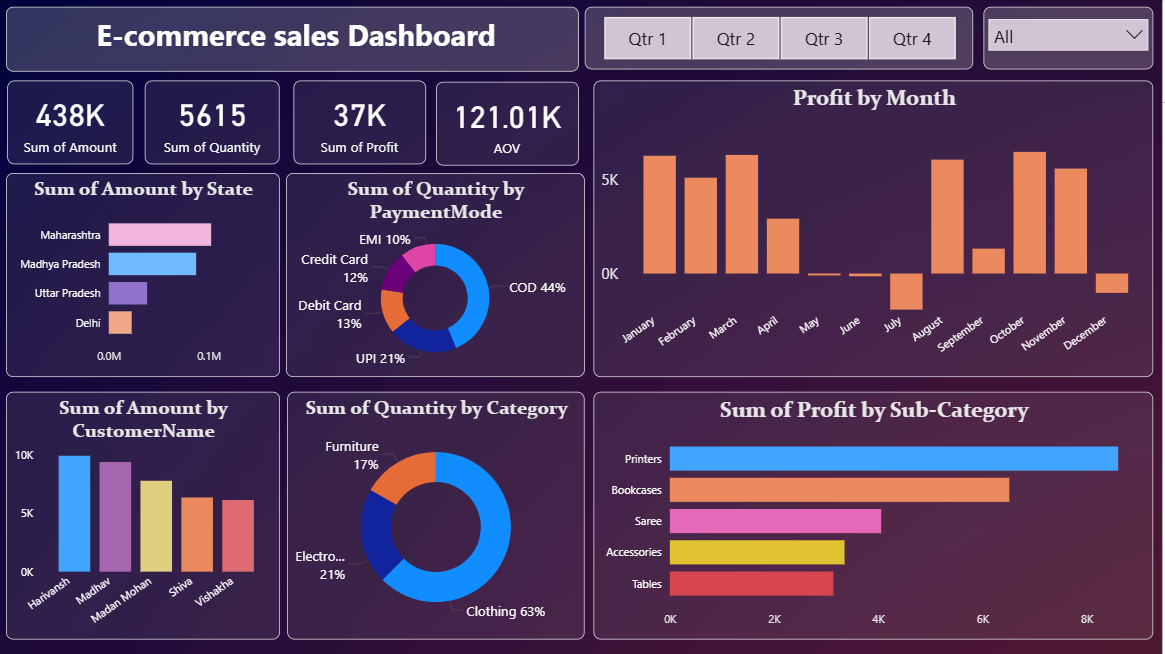

The page's visual inventory and layout, read from the dashboard file:
{"tool":"powerbi","page":{"name":"Page 1","canvas":[1280,720],"ordinal":0},"visuals":[{"type":"textbox","box":[11,9.6,628.5,71.4],"z":0},{"type":"columnChart","title":" Profit by Month","fields":{"Y":["Details.Profit"],"Category":["Orders.Order Date.Variation.Date Hierarchy.Month"]},"box":[655.9,90.6,614.8,325.2],"z":1000},{"type":"barChart","fields":{"Category":["Details.Sub-Category"],"Y":["Details.Profit"]},"box":[655.9,432.2,614.8,271.7],"z":2000},{"type":"donutChart","fields":{"Y":["Details.Quantity"],"Category":["Details.Category"]},"box":[319.7,432.2,326.6,271.7],"z":3000},{"type":"donutChart","fields":{"Y":["Details.Quantity"],"Category":["Details.PaymentMode","Details.Category"]},"box":[318.4,192.1,328,223.7],"z":4000},{"type":"card","fields":{"Values":["Details.Amount"]},"box":[12.3,90.6,138.6,91.9],"z":5000},{"type":"card","fields":{"Values":["Details.Quantity"]},"box":[163.3,90.6,148.2,91.9],"z":6000},{"type":"card","fields":{"Values":["Details.Profit"]},"box":[326.6,90.6,145.5,91.9],"z":7000},{"type":"card","fields":{"Values":["Details.Amount order value"]},"box":[483,91.9,156.4,91.9],"z":8000},{"type":"barChart","fields":{"Category":["Orders.State"],"Y":["Details.Amount"]},"box":[11,192.1,300.5,223.7],"z":9000},{"type":"columnChart","fields":{"Category":["Orders.CustomerName"],"Y":["Details.Amount"]},"box":[11,432.2,300.5,271.7],"z":10000},{"type":"slicer","fields":{"Values":["Orders.Order Date.Variation.Date Hierarchy.Quarter"]},"box":[646.3,9.6,426.8,69],"z":11000},{"type":"slicer","fields":{"Values":["Orders.State"]},"box":[1084.1,9.6,186.6,68.6],"z":12000}]}

Visuals, with their boxes in screenshot pixels (x1, y1, x2, y2), scaled from the page's 1280x720 canvas onto the 1165x654 screenshot:
textbox: bbox(10, 9, 582, 74)
" Profit by Month" columnChart: bbox(597, 82, 1157, 378)
barChart - Details.Sub-Category x Details.Profit: bbox(597, 393, 1157, 639)
donutChart - Details.Quantity x Details.Category: bbox(291, 393, 588, 639)
donutChart - Details.Quantity x Details.PaymentMode: bbox(290, 174, 588, 378)
card - Details.Amount: bbox(11, 82, 137, 166)
card - Details.Quantity: bbox(149, 82, 284, 166)
card - Details.Profit: bbox(297, 82, 430, 166)
card - Details.Amount order value: bbox(440, 83, 582, 167)
barChart - Orders.State x Details.Amount: bbox(10, 174, 284, 378)
columnChart - Orders.CustomerName x Details.Amount: bbox(10, 393, 284, 639)
slicer - Orders.Order Date.Variation.Date Hierarchy.Quarter: bbox(588, 9, 977, 71)
slicer - Orders.State: bbox(987, 9, 1157, 71)
